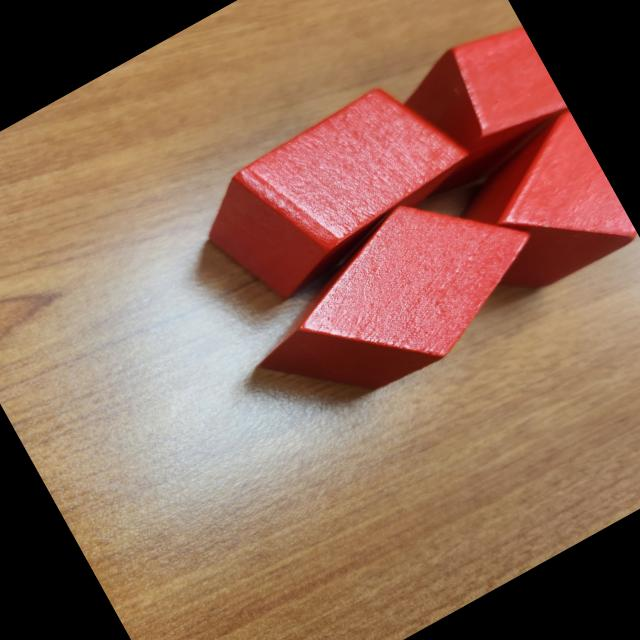red: (223, 152, 568, 439), (183, 64, 489, 319), (364, 12, 578, 210), (442, 110, 640, 308)
